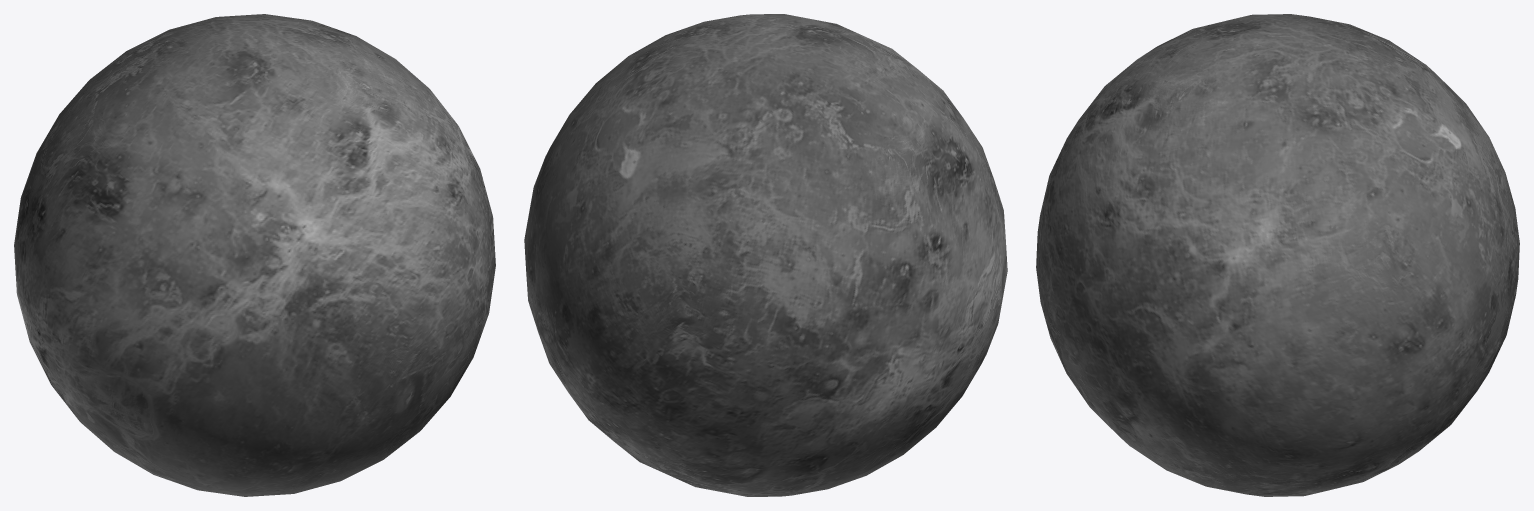
File: Venus.glb
3 views of the same model, side by side, from view 1: azimuth 30°, elevation 25°; view 2: azimuth 150°, elevation 25°; view 3: azimuth 270°, elevation 25° (orthographic).
Parts seen in each view (by area): view 1: Venus; view 2: Venus; view 3: Venus.
Part boxes in pixels (<box>): Venus: <box>14,14,495,496</box>; Venus: <box>524,14,1007,496</box>; Venus: <box>1036,14,1519,496</box>.
Bounding box in the file's own units: 0.00854 × 0.00857 × 0.00857.
Materials: 1 (1 with a texture image).
